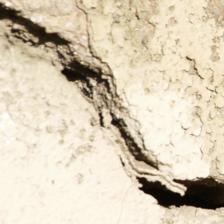Crack: (3, 4, 218, 209)
